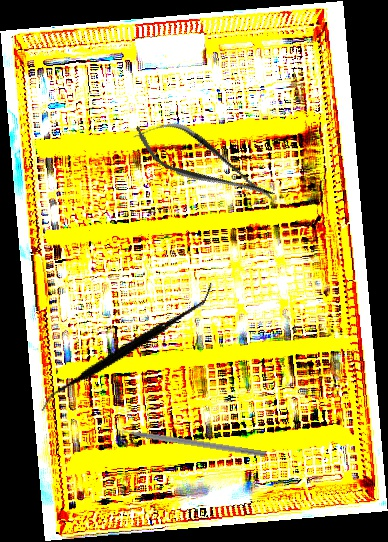Chopper: (107, 418, 269, 458)
Micro Scissor: (125, 105, 284, 221)
Spatula Surgical: (39, 240, 214, 454)
